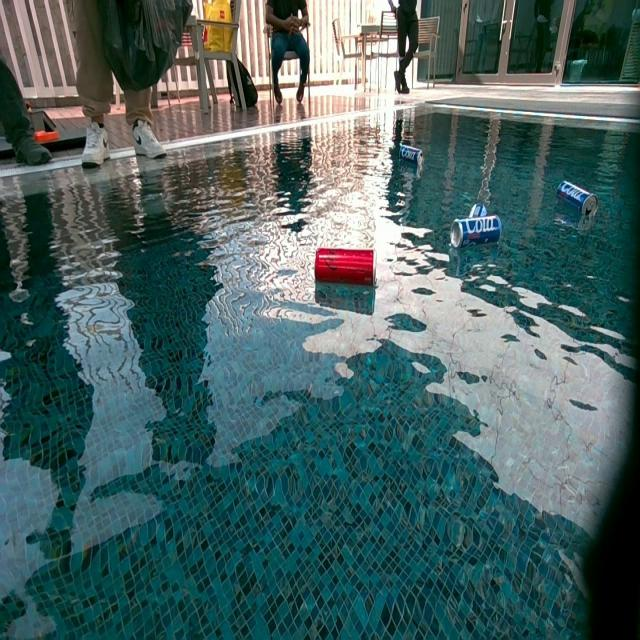Cans: (315, 251, 375, 290), (556, 180, 598, 233), (449, 216, 500, 251), (398, 144, 422, 165), (468, 204, 488, 217)
